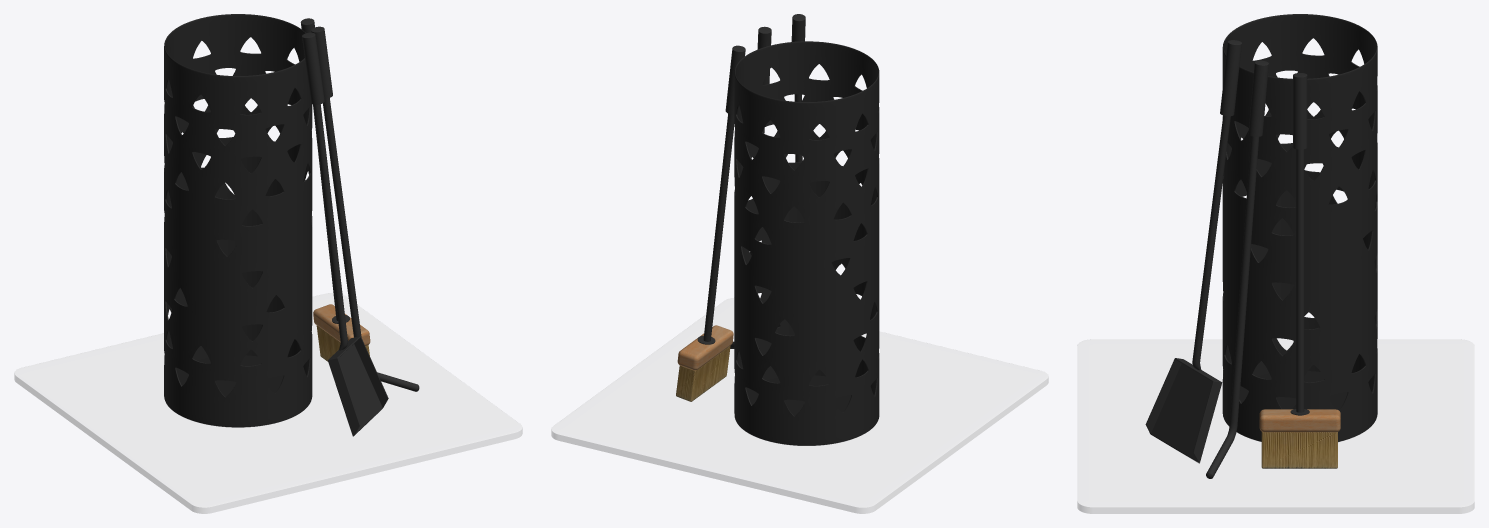
File: kamin.glb
The picture shows the model from 3 angles, left to right: view 1: azimuth 30°, elevation 25°; view 2: azimuth 150°, elevation 25°; view 3: azimuth 270°, elevation 25°; orthographic projection. The views are drawn at different scales.
Visible parts, largest first — view 1: Merged Objects, Box 2, Cube_1, Cylinder (×2), Cylinder 4, Cylinder 6, Box 1, Cylinder 5; view 2: Merged Objects, Box 2, Cylinder 1, Box, Box 1, Cylinder, Cylinder 3; view 3: Merged Objects, Box 2, Cube_1, Cylinder 4, Cylinder (×2), Box, Cylinder 1, Box 1, Cylinder 3, Cylinder 6, Cylinder 5.
Boxes of the visible parts, x1,y1,x2,y2 form: Merged Objects: [164, 14, 312, 427]; Box 2: [14, 293, 522, 513]; Cube_1: [328, 336, 388, 436]; Cylinder (×2): [176, 104, 347, 396]; Cylinder 4: [323, 98, 419, 391]; Cylinder 6: [302, 32, 324, 104]; Box 1: [313, 304, 370, 345]; Cylinder 5: [311, 26, 332, 98]; Merged Objects: [734, 41, 879, 445]; Box 2: [551, 298, 1048, 513]; Cylinder 1: [703, 113, 734, 341]; Box: [676, 346, 730, 401]; Box 1: [677, 325, 733, 370]; Cylinder: [746, 375, 851, 415]; Cylinder 3: [725, 45, 745, 114]; Merged Objects: [1222, 14, 1377, 441]; Box 2: [1077, 339, 1474, 513]; Cube_1: [1145, 358, 1222, 463]; Cylinder 4: [1206, 136, 1259, 478]; Cylinder (×2): [1192, 115, 1347, 410]; Box: [1261, 432, 1337, 468]; Cylinder 1: [1296, 149, 1304, 412]; Box 1: [1259, 409, 1340, 432]; Cylinder 3: [1293, 73, 1307, 149]; Cylinder 6: [1220, 40, 1241, 116]; Cylinder 5: [1248, 60, 1268, 136].
Size of the model in its own units: 0.05 by 0.0554 by 0.05.
13 materials, 2 textured.
